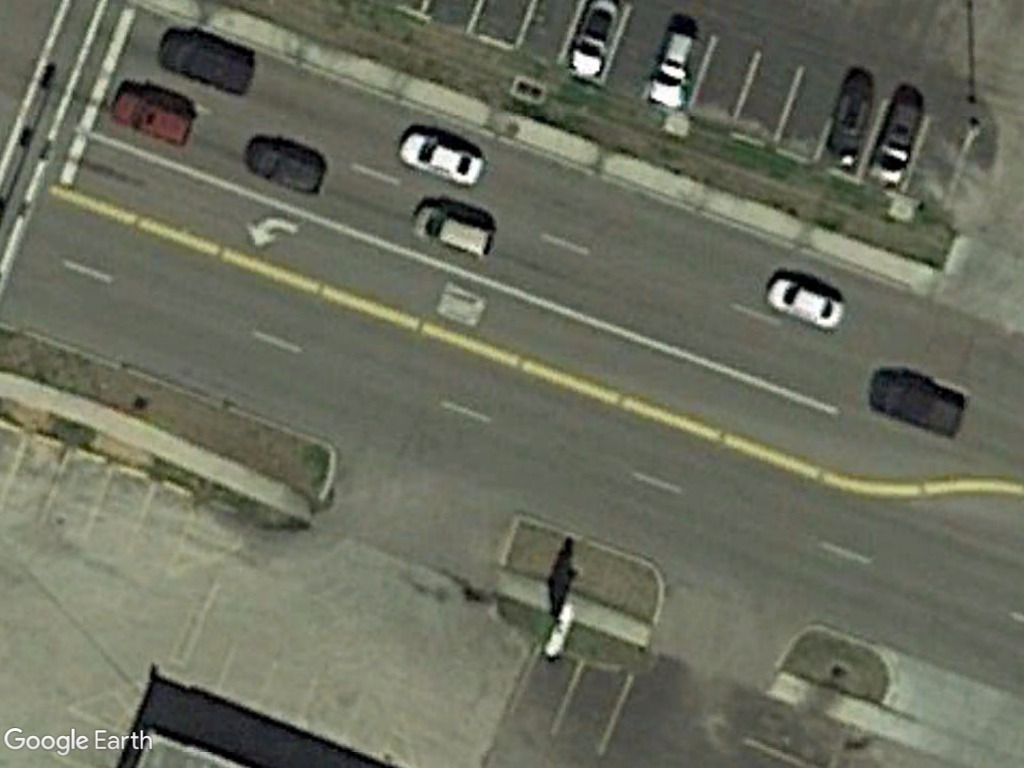car: (394, 126, 489, 188), (109, 88, 201, 148), (761, 272, 847, 333), (412, 206, 500, 263), (645, 24, 701, 109)
